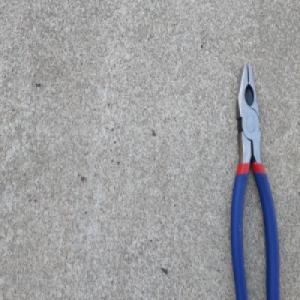Pliers: (228, 61, 280, 300)
